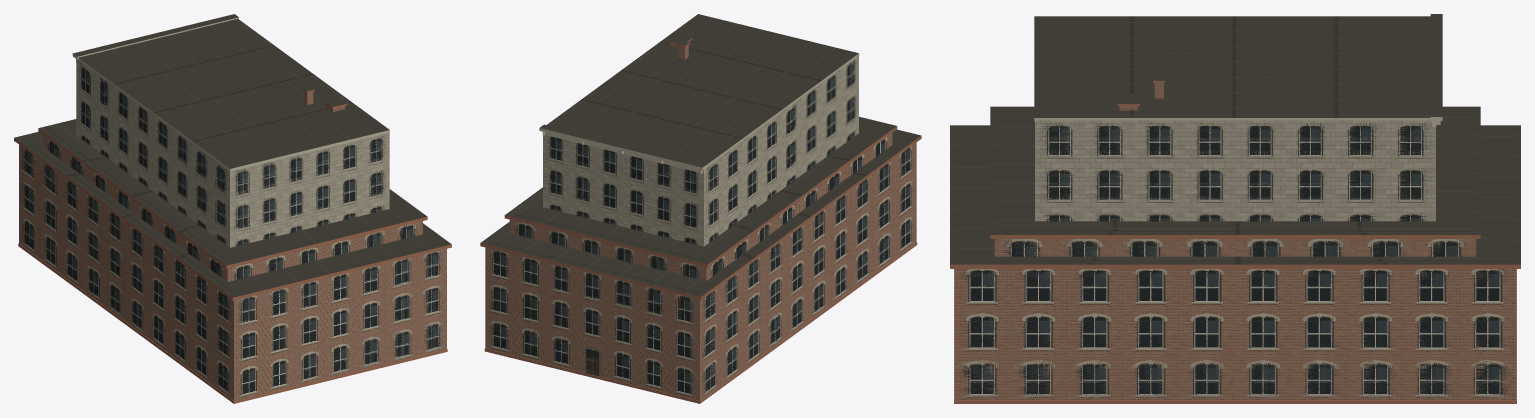
Rendered from kit.glb.
3 views of the same model, side by side, from view 1: azimuth 30°, elevation 25°; view 2: azimuth 150°, elevation 25°; view 3: azimuth 270°, elevation 25° (orthographic). The views are drawn at different scales.
Visible parts, largest first — view 1: factory__near, commercial_6__near, factory__far, commercial_6__far, warehouse__near, warehouse__far; view 2: factory__near, commercial_6__near, factory__far, warehouse__near, commercial_6__far, warehouse__far; view 3: factory__near, commercial_6__near, warehouse__near, factory__far, commercial_6__far, warehouse__far.
Part boxes in pixels (left/top/right/bottom): factory__near: left=14, top=97, right=451, bottom=403; commercial_6__near: left=72, top=14, right=389, bottom=247; factory__far: left=17, top=132, right=447, bottom=400; commercial_6__far: left=73, top=14, right=389, bottom=247; warehouse__near: left=38, top=119, right=427, bottom=281; warehouse__far: left=40, top=119, right=425, bottom=281; factory__near: left=480, top=34, right=921, bottom=403; commercial_6__near: left=539, top=14, right=859, bottom=246; factory__far: left=482, top=143, right=916, bottom=400; warehouse__near: left=504, top=116, right=897, bottom=280; commercial_6__far: left=543, top=55, right=858, bottom=245; warehouse__far: left=509, top=117, right=895, bottom=280; factory__near: left=950, top=94, right=1520, bottom=403; commercial_6__near: left=1034, top=14, right=1442, bottom=221; warehouse__near: left=990, top=106, right=1480, bottom=256; factory__far: left=951, top=126, right=1519, bottom=399; commercial_6__far: left=1035, top=14, right=1441, bottom=220; warehouse__far: left=991, top=156, right=1478, bottom=256.
Size of the model in its own units: 24.68 by 23.71 by 42.68.
Materials: 6 (6 with a texture image).
